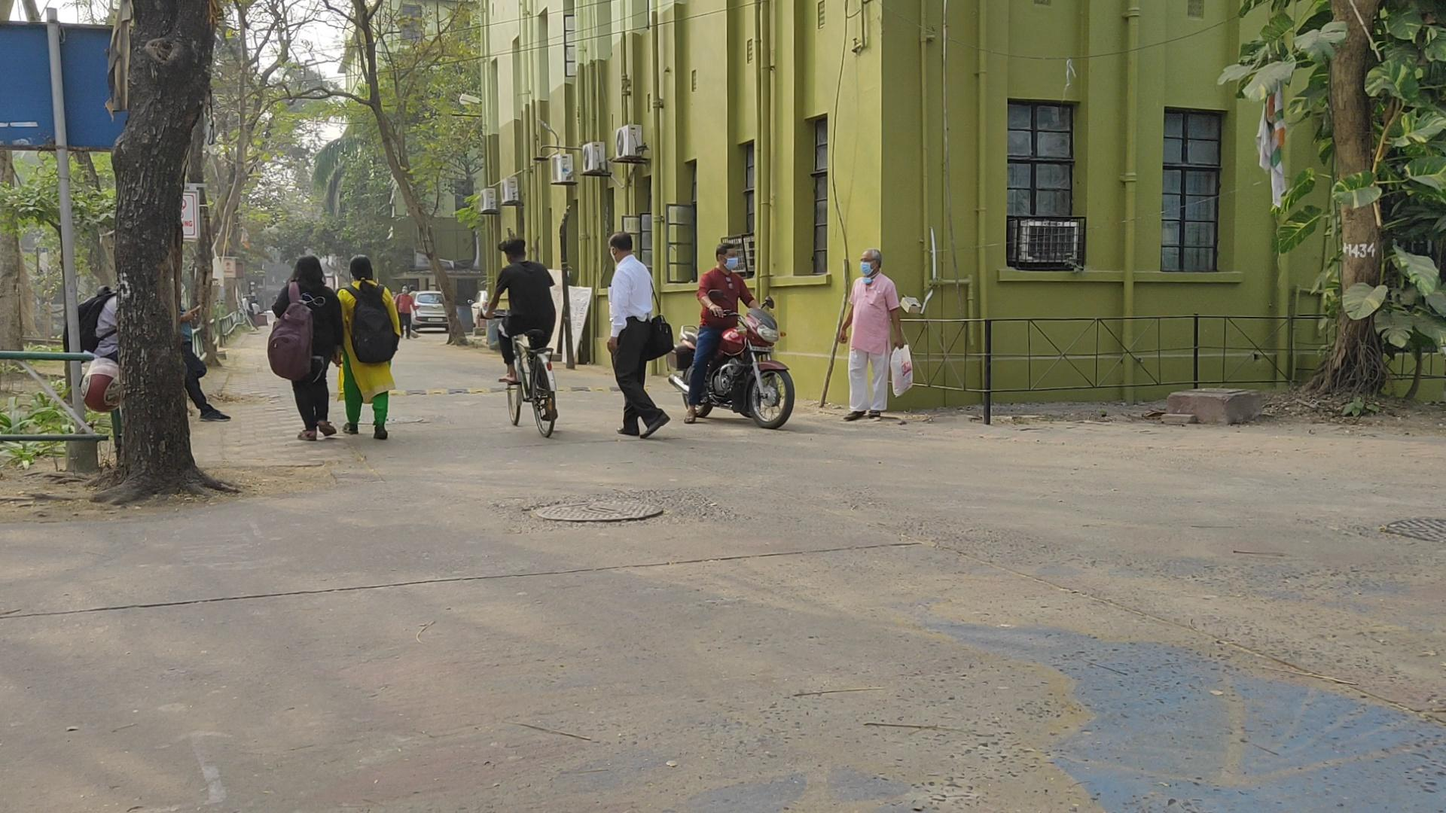bike: (667, 243, 795, 429), (478, 239, 560, 438)
car: (409, 291, 450, 333)
